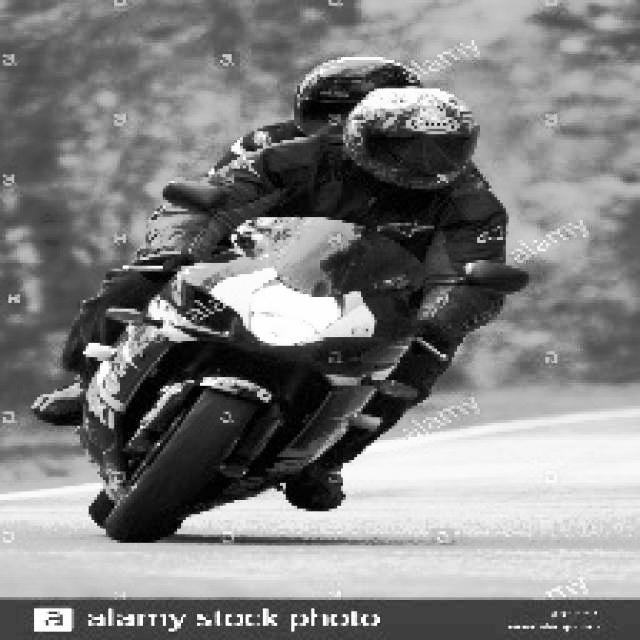Bike: (75, 215, 413, 559)
